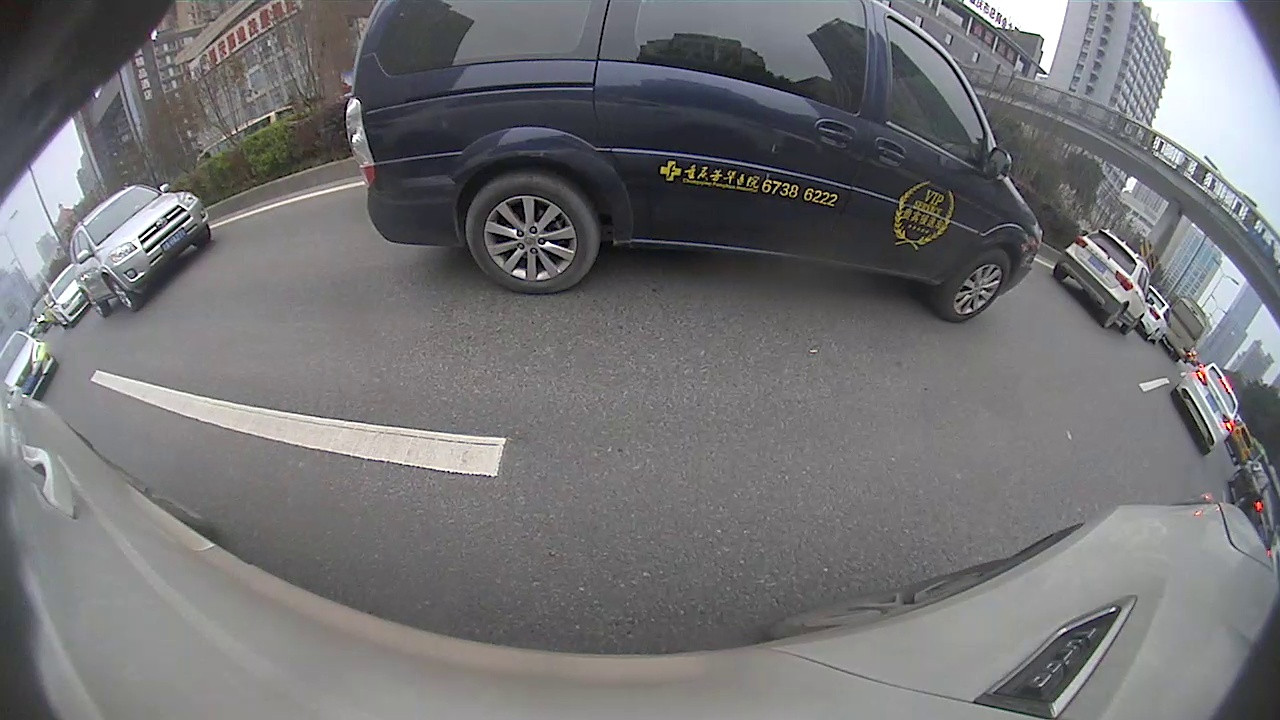car: (342, 1, 1042, 324), (70, 180, 214, 316), (1051, 227, 1156, 338), (1171, 364, 1242, 456)
front: (935, 247, 1011, 322), (104, 274, 137, 313)
rear: (467, 174, 600, 296)
